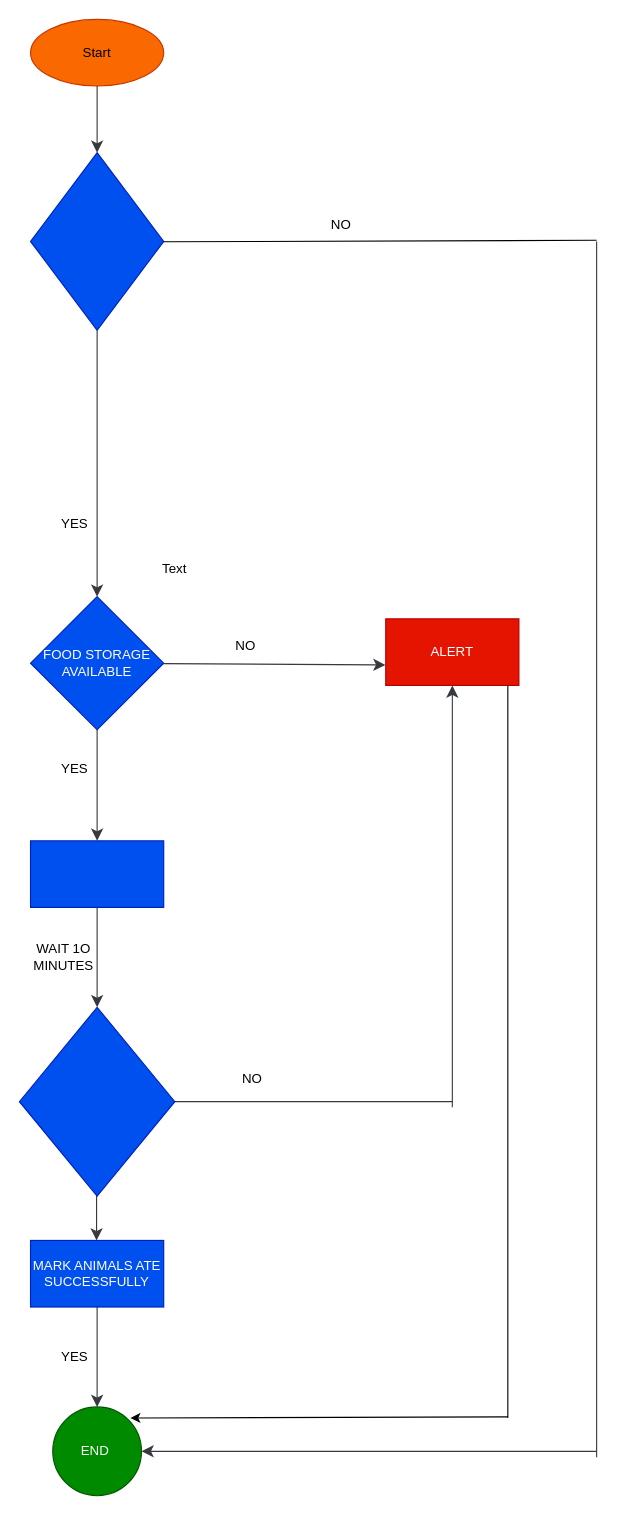
The diagram is 617 pixels wide and 1515 high, and some of its shapes have lost their labels. Here are the shapes that lost their labels. From the top down, the centre of each, then its label:
At (x=96, y=241): "IS IT FEEDING TIME ? (RTC)".
At (x=96, y=873): "ROTATE SERVO TO DISPENSE FOOD".
At (x=96, y=1101): "CHECK IF BOWL WEIGHT HAS DECREASED".
